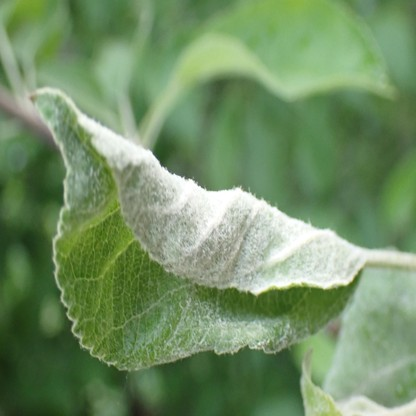powder: (28, 87, 366, 370), (300, 350, 340, 416)
